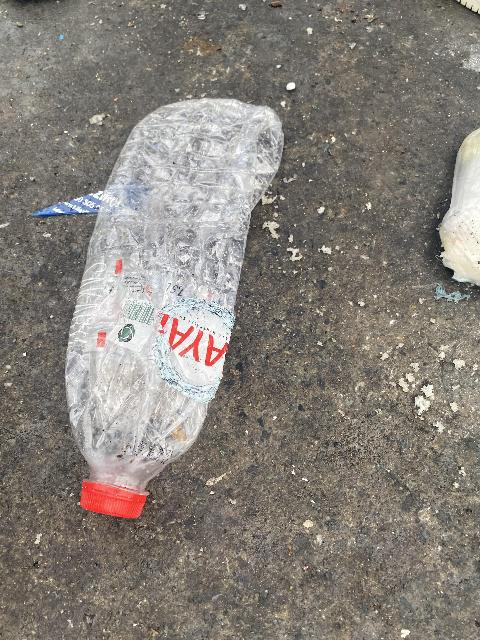Plastik: (67, 105, 292, 514), (37, 187, 132, 222)
